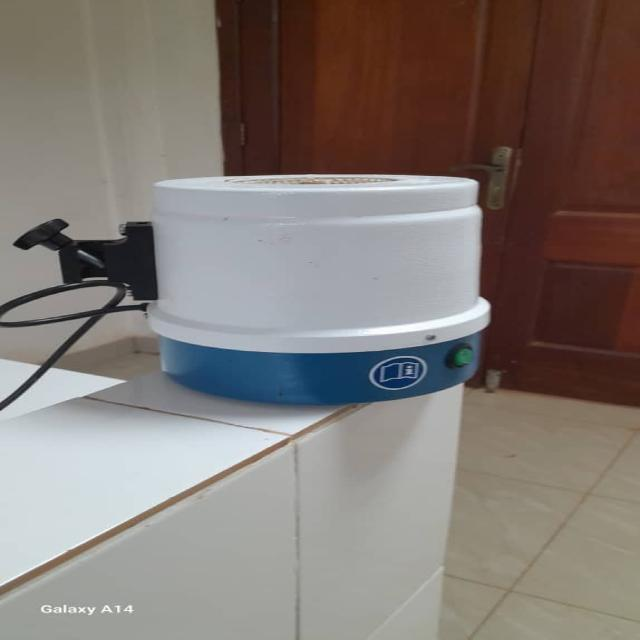Heating Source: (132, 177, 500, 407)
